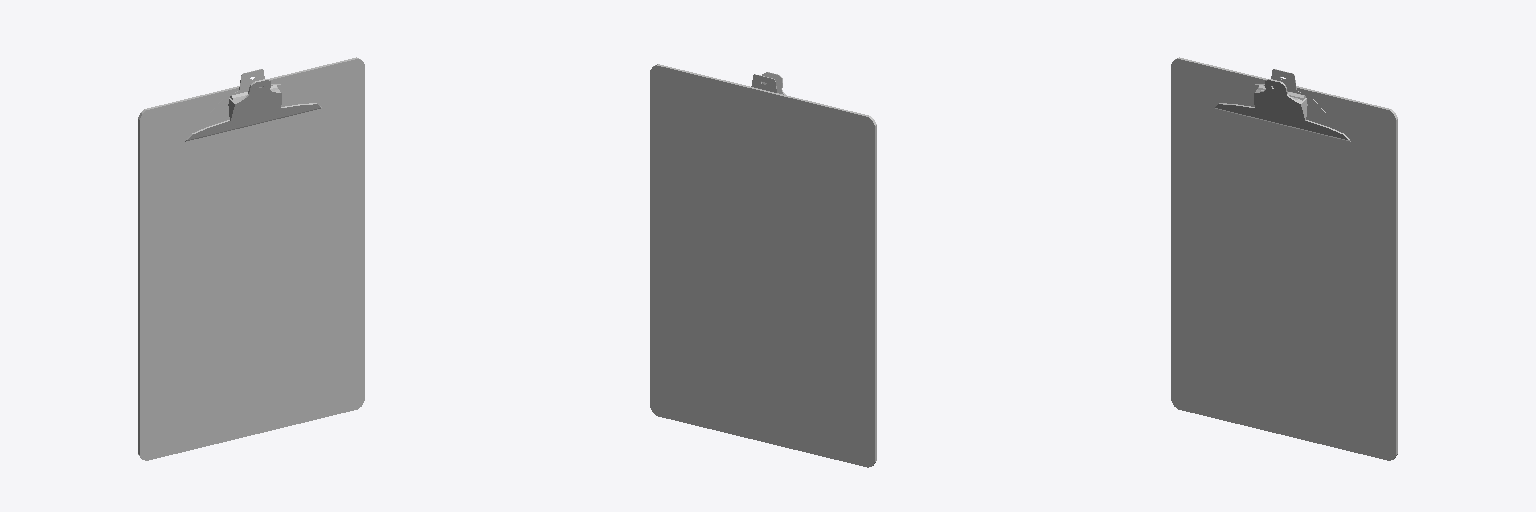
Rendered from clipboard.obj.
3 views of the same model, side by side, from view 1: azimuth 30°, elevation 25°; view 2: azimuth 150°, elevation 25°; view 3: azimuth 330°, elevation 25° (orthographic).
Parts seen in each view (by area): view 1: Cube; view 2: Cube; view 3: Cube.
Boxes of the visible parts, x1=… form: Cube: x1=138, y1=57, x2=364, y2=460; Cube: x1=650, y1=64, x2=876, y2=467; Cube: x1=1171, y1=57, x2=1397, y2=460.
Size of the model in its own units: 25.7 by 39.63 by 2.14.